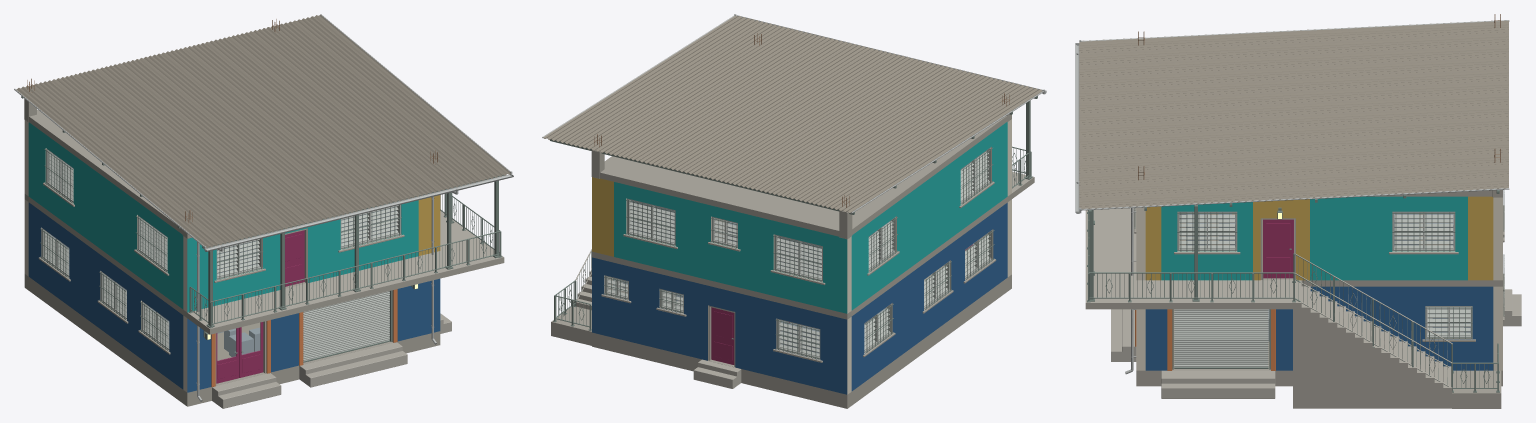
Rendered from la_lanterne_du_quai.glb.
3 views of the same model, side by side, from view 1: azimuth 30°, elevation 25°; view 2: azimuth 150°, elevation 25°; view 3: azimuth 270°, elevation 25° (orthographic). The views are drawn at different scales.
Parts seen in each view (by area): view 1: corrugated_rust, new_render_turquoise_worn, new_render_cobalt_worn, pavers_concrete, steel_painted_worn, concrete_cast, aluminium_weathered, DoorRoll_02, galvanized_steel, plaster_cream_warm, DoorLeaf_01a_L_in, DoorLeaf_01b_R_in (+4 smaller); view 2: corrugated_rust, new_render_cobalt_worn, new_render_turquoise_worn, concrete_cast, aluminium_weathered, steel_painted_worn, plaster_cream_warm, new_render_ochre_worn, pavers_concrete, DoorLeaf_04_R_in, galvanized_steel, glass; view 3: corrugated_rust, concrete_cast, pavers_concrete, new_render_turquoise_worn, new_render_cobalt_worn, steel_painted_worn, aluminium_weathered, new_render_ochre_worn, DoorRoll_03, plaster_cream_warm, galvanized_steel, DoorLeaf_08_R_in (+3 smaller).
Part boxes in pixels (x1,y1,x2,y2): corrugated_rust: [16, 14, 510, 248]; new_render_turquoise_worn: [28, 122, 418, 312]; new_render_cobalt_worn: [28, 202, 440, 392]; pavers_concrete: [188, 211, 503, 408]; steel_painted_worn: [21, 96, 504, 350]; concrete_cast: [24, 98, 504, 406]; aluminium_weathered: [42, 149, 400, 350]; DoorRoll_02: [303, 291, 389, 362]; galvanized_steel: [14, 14, 513, 401]; plaster_cream_warm: [24, 120, 401, 392]; DoorLeaf_01a_L_in: [239, 322, 263, 377]; DoorLeaf_01b_R_in: [216, 328, 238, 383]; corrugated_rust: [543, 15, 1042, 213]; new_render_cobalt_worn: [592, 202, 1007, 394]; new_render_turquoise_worn: [614, 122, 1007, 313]; concrete_cast: [551, 114, 1034, 408]; aluminium_weathered: [605, 147, 992, 358]; steel_painted_worn: [550, 96, 1037, 359]; plaster_cream_warm: [604, 119, 1011, 394]; new_render_ochre_worn: [592, 177, 613, 256]; pavers_concrete: [573, 171, 1033, 388]; DoorLeaf_04_R_in: [711, 307, 734, 364]; galvanized_steel: [542, 14, 1046, 213]; glass: [609, 152, 987, 352]; corrugated_rust: [1079, 20, 1508, 209]; concrete_cast: [1085, 190, 1504, 408]; pavers_concrete: [1085, 208, 1521, 398]; new_render_turquoise_worn: [1161, 196, 1467, 280]; new_render_cobalt_worn: [1145, 286, 1493, 370]; steel_painted_worn: [1087, 190, 1504, 392]; aluminium_weathered: [1177, 211, 1472, 337]; new_render_ochre_worn: [1145, 196, 1493, 280]; DoorRoll_03: [1174, 309, 1268, 368]; plaster_cream_warm: [1136, 197, 1502, 370]; galvanized_steel: [1075, 20, 1509, 374]; DoorLeaf_08_R_in: [1263, 219, 1293, 278].
Bounding box in the file's own units: 12.63 × 8.17 × 14.13.
